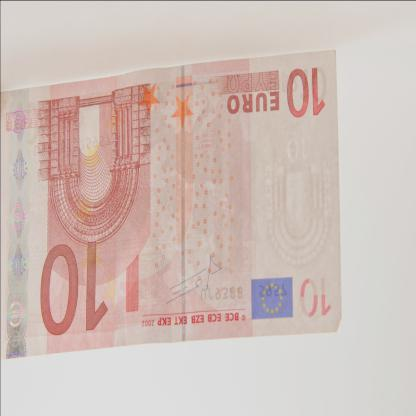euro_banknote: (14, 68, 350, 343)
